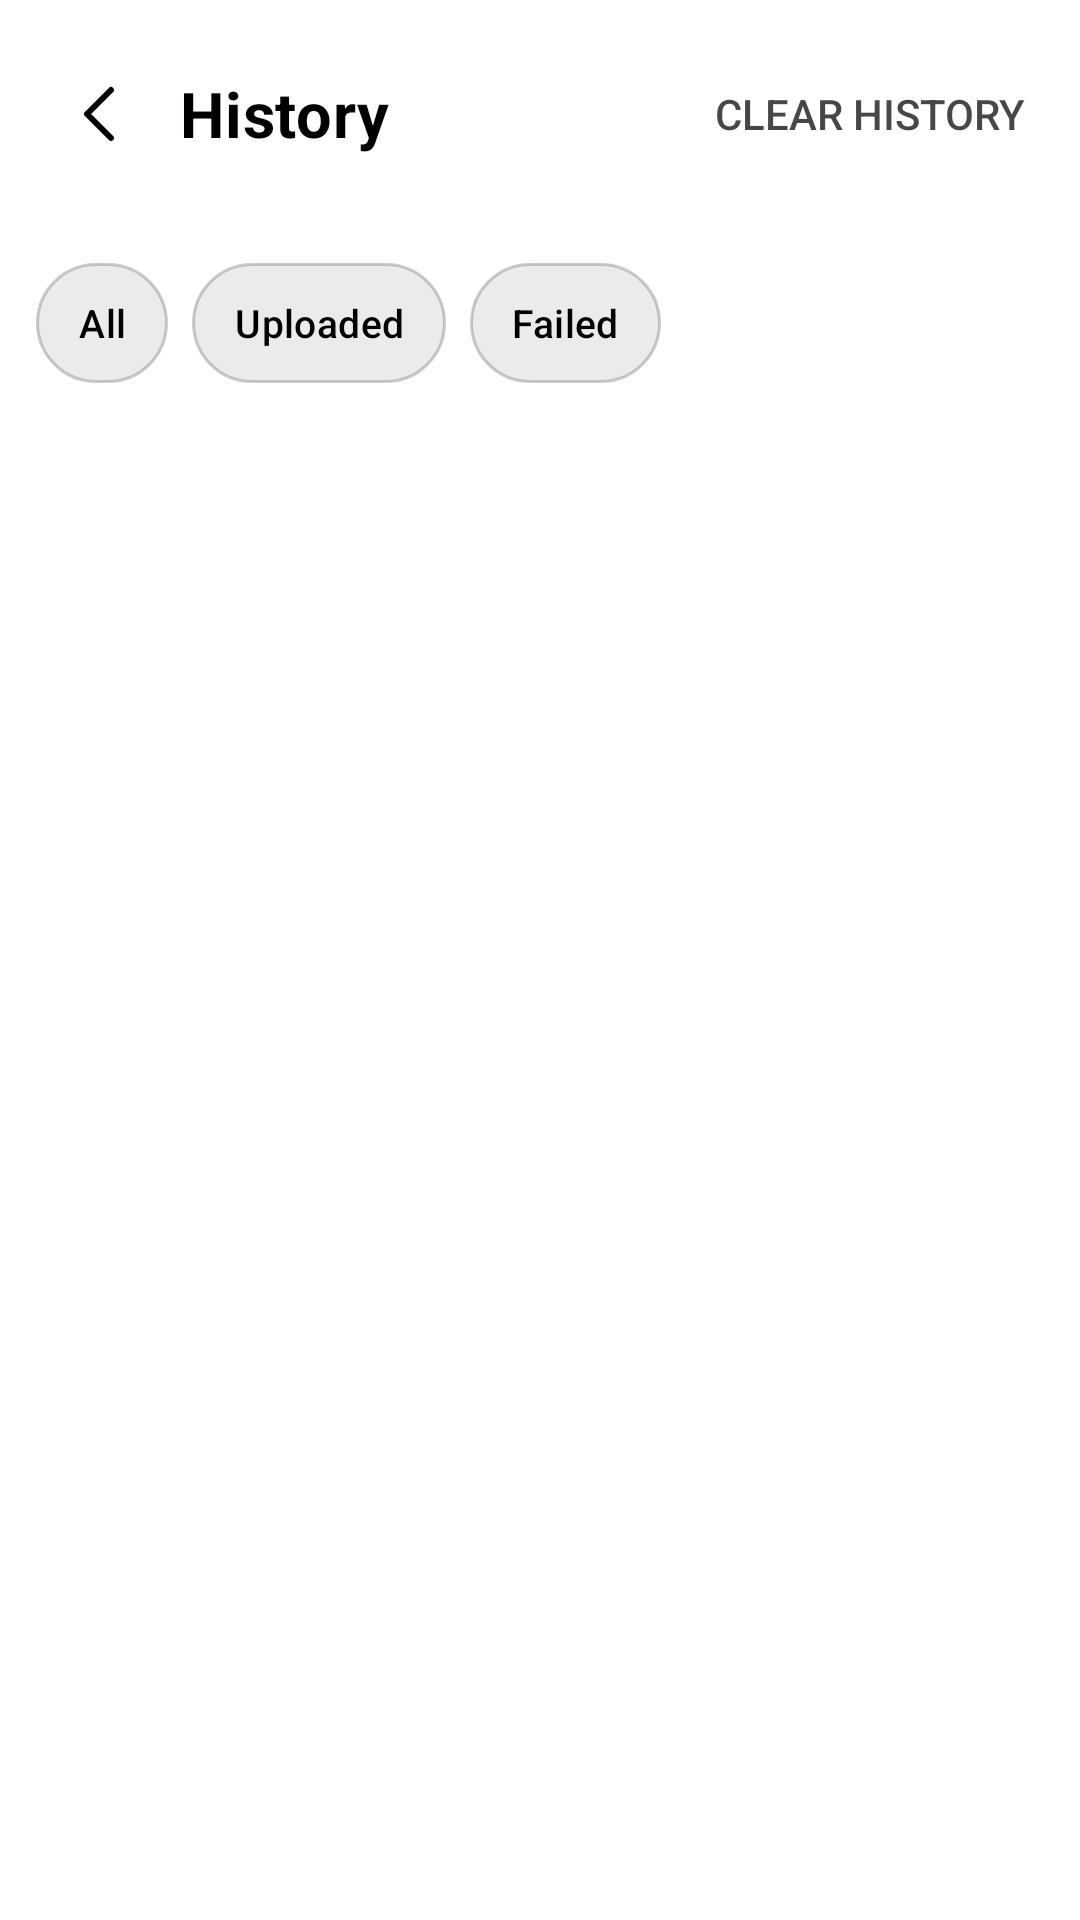

Screen size 1080*1920. Icon name, then its center in pixels as [x,y]:
Back: [99,113]
